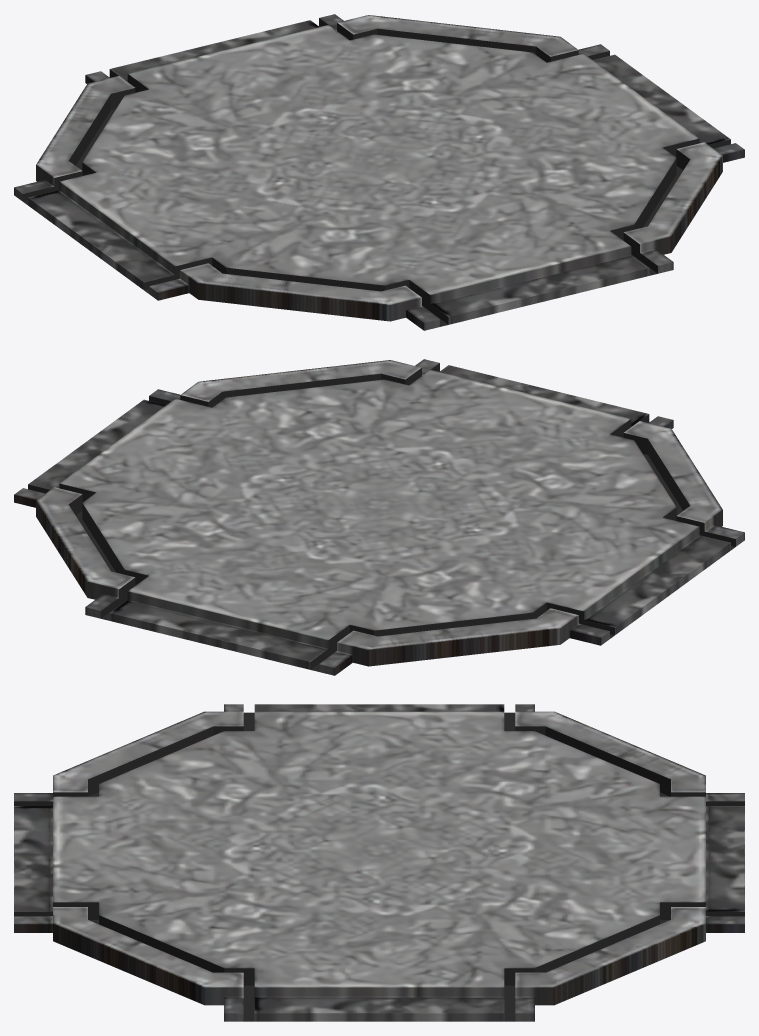
File: PowerPath.fbx
3 renders of one model, top to bottom at view 1: azimuth 30°, elevation 25°; view 2: azimuth 150°, elevation 25°; view 3: azimuth 270°, elevation 25°, orthographic. The views are drawn at different scales.
Visible parts, largest first — view 1: Cube.001; view 2: Cube.001; view 3: Cube.001.
Part boxes in pixels (box(x1,y1,x2,y2)): Cube.001: box(14, 14, 744, 330); Cube.001: box(14, 359, 744, 675); Cube.001: box(14, 704, 744, 1021).
Bounding box in the file's own units: 1 × 0.0266 × 1.
